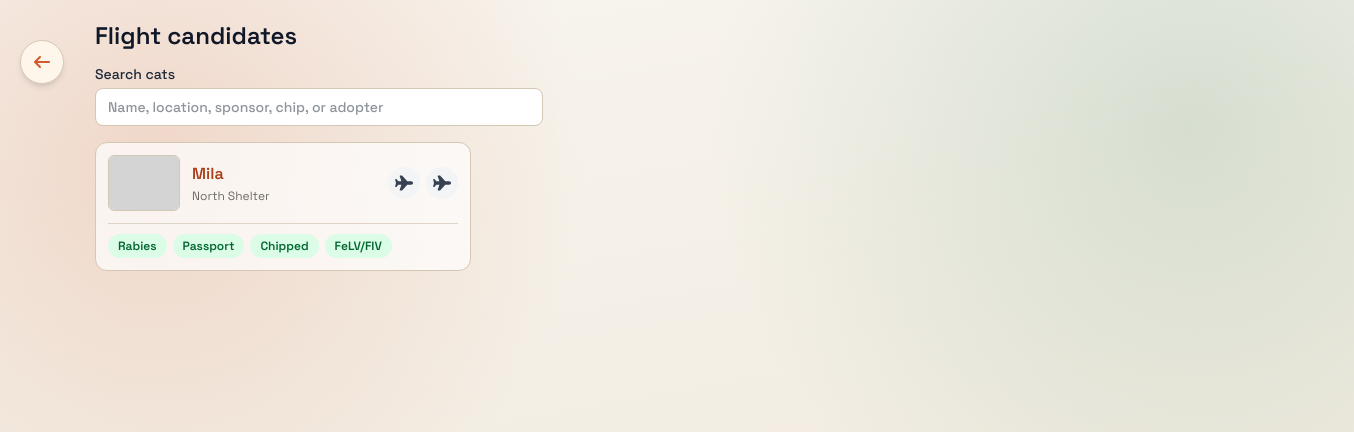
FlightCandidatesClient › filters by adopter/address and reports no matching cats
Expected: the link "Mila" is shown, [192, 163, 224, 184]
Type "elsewhere" into the field labelled "Search cats".
click(319, 107); type("elsewhere")  # box [95, 88, 543, 126]
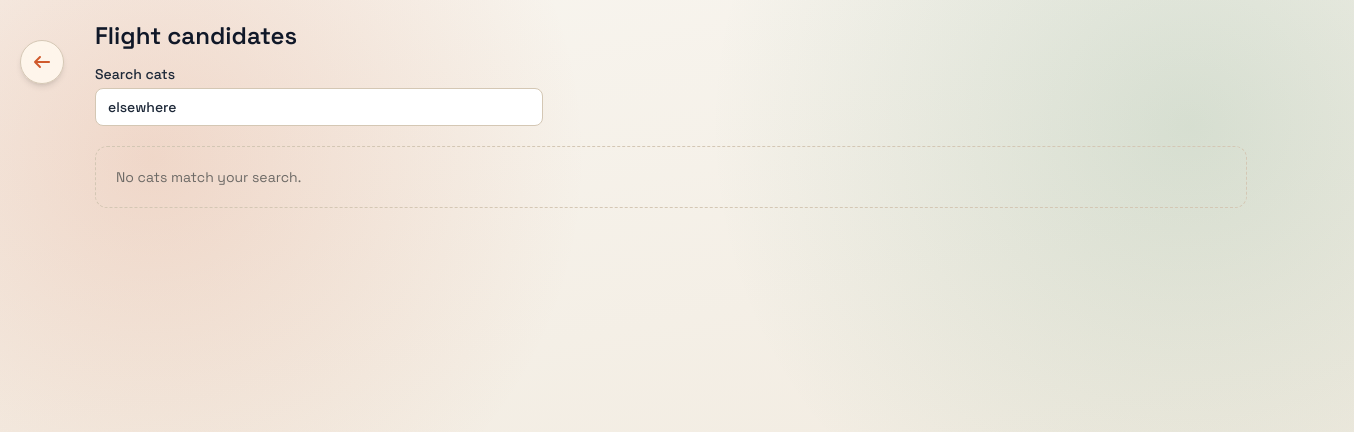
Expected: the text "No cats match your search." is shown, [95, 146, 1247, 208]
